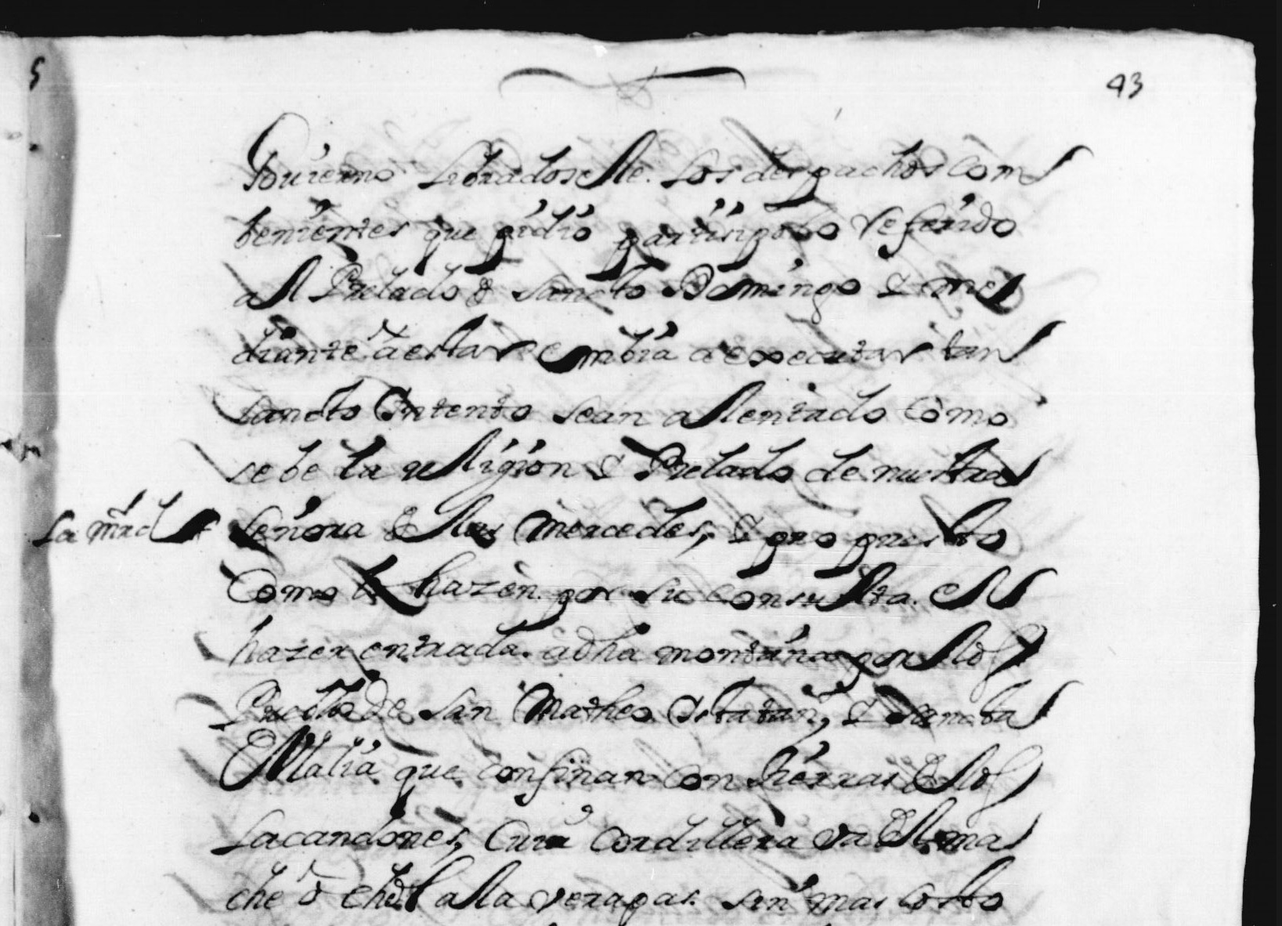lacandon: (210, 808, 469, 855)
